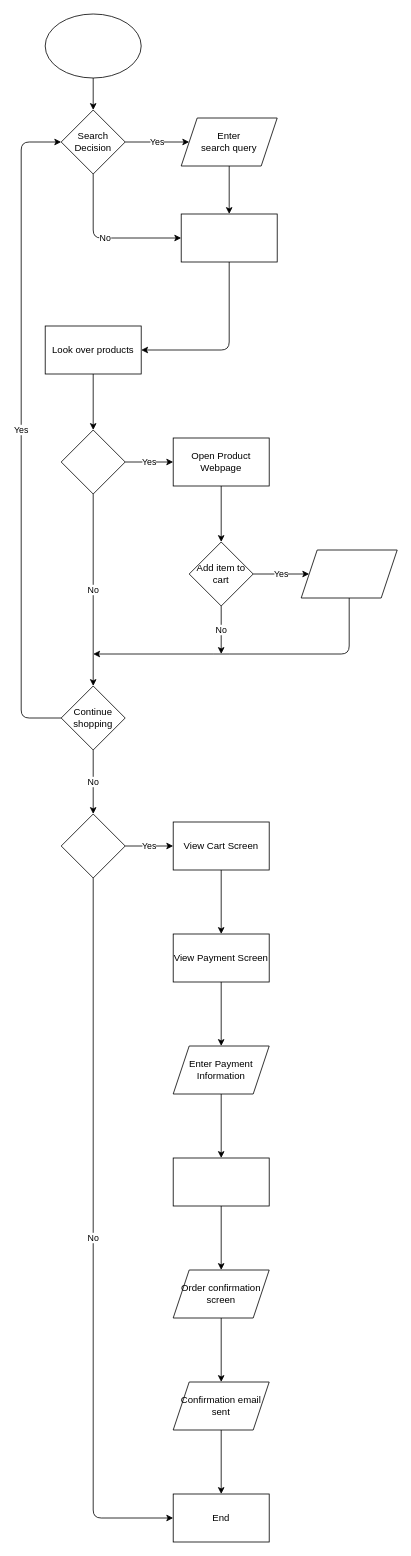
The diagram is 411 pixels wide and 1556 high, and some of its shapes have lost their labels. The centre of each missing label's shape, as x and y in pixels:
Checkout: the point at 92,845
Explore/Browse products on homepage: the point at 228,237
Output: Added to cart confirmation: the point at 348,573
Process Payment: the point at 220,1181
Start: the point at 92,45
View specific product: the point at 92,461
